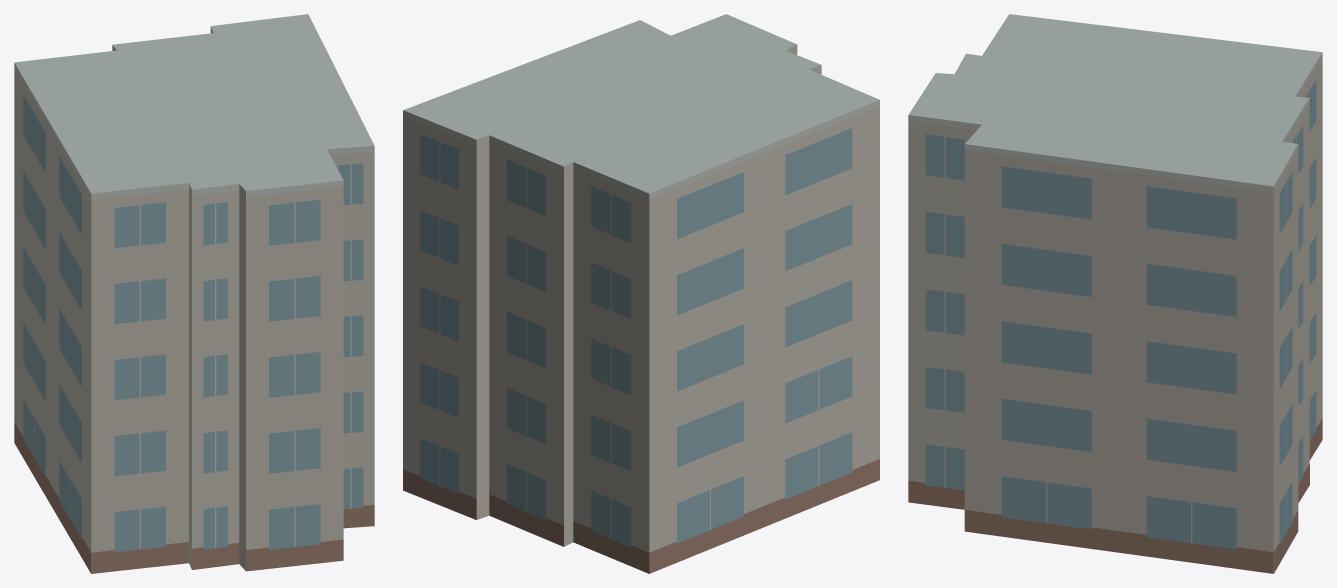
The model's file is survey-upis-32920612.glb.
3 views of the same model, side by side, from view 1: azimuth 30°, elevation 25°; view 2: azimuth 150°, elevation 25°; view 3: azimuth 270°, elevation 25° (orthographic).
Parts seen in each view (by area): view 1: survey-upis-32920612.tmp; view 2: survey-upis-32920612.tmp; view 3: survey-upis-32920612.tmp.
Boxes of the visible parts, x1,y1,x2,y2 form: survey-upis-32920612.tmp: (14, 14, 374, 573); survey-upis-32920612.tmp: (403, 14, 879, 573); survey-upis-32920612.tmp: (908, 14, 1322, 573).
Size of the model in its own units: 14.57 by 15.25 by 14.79.
